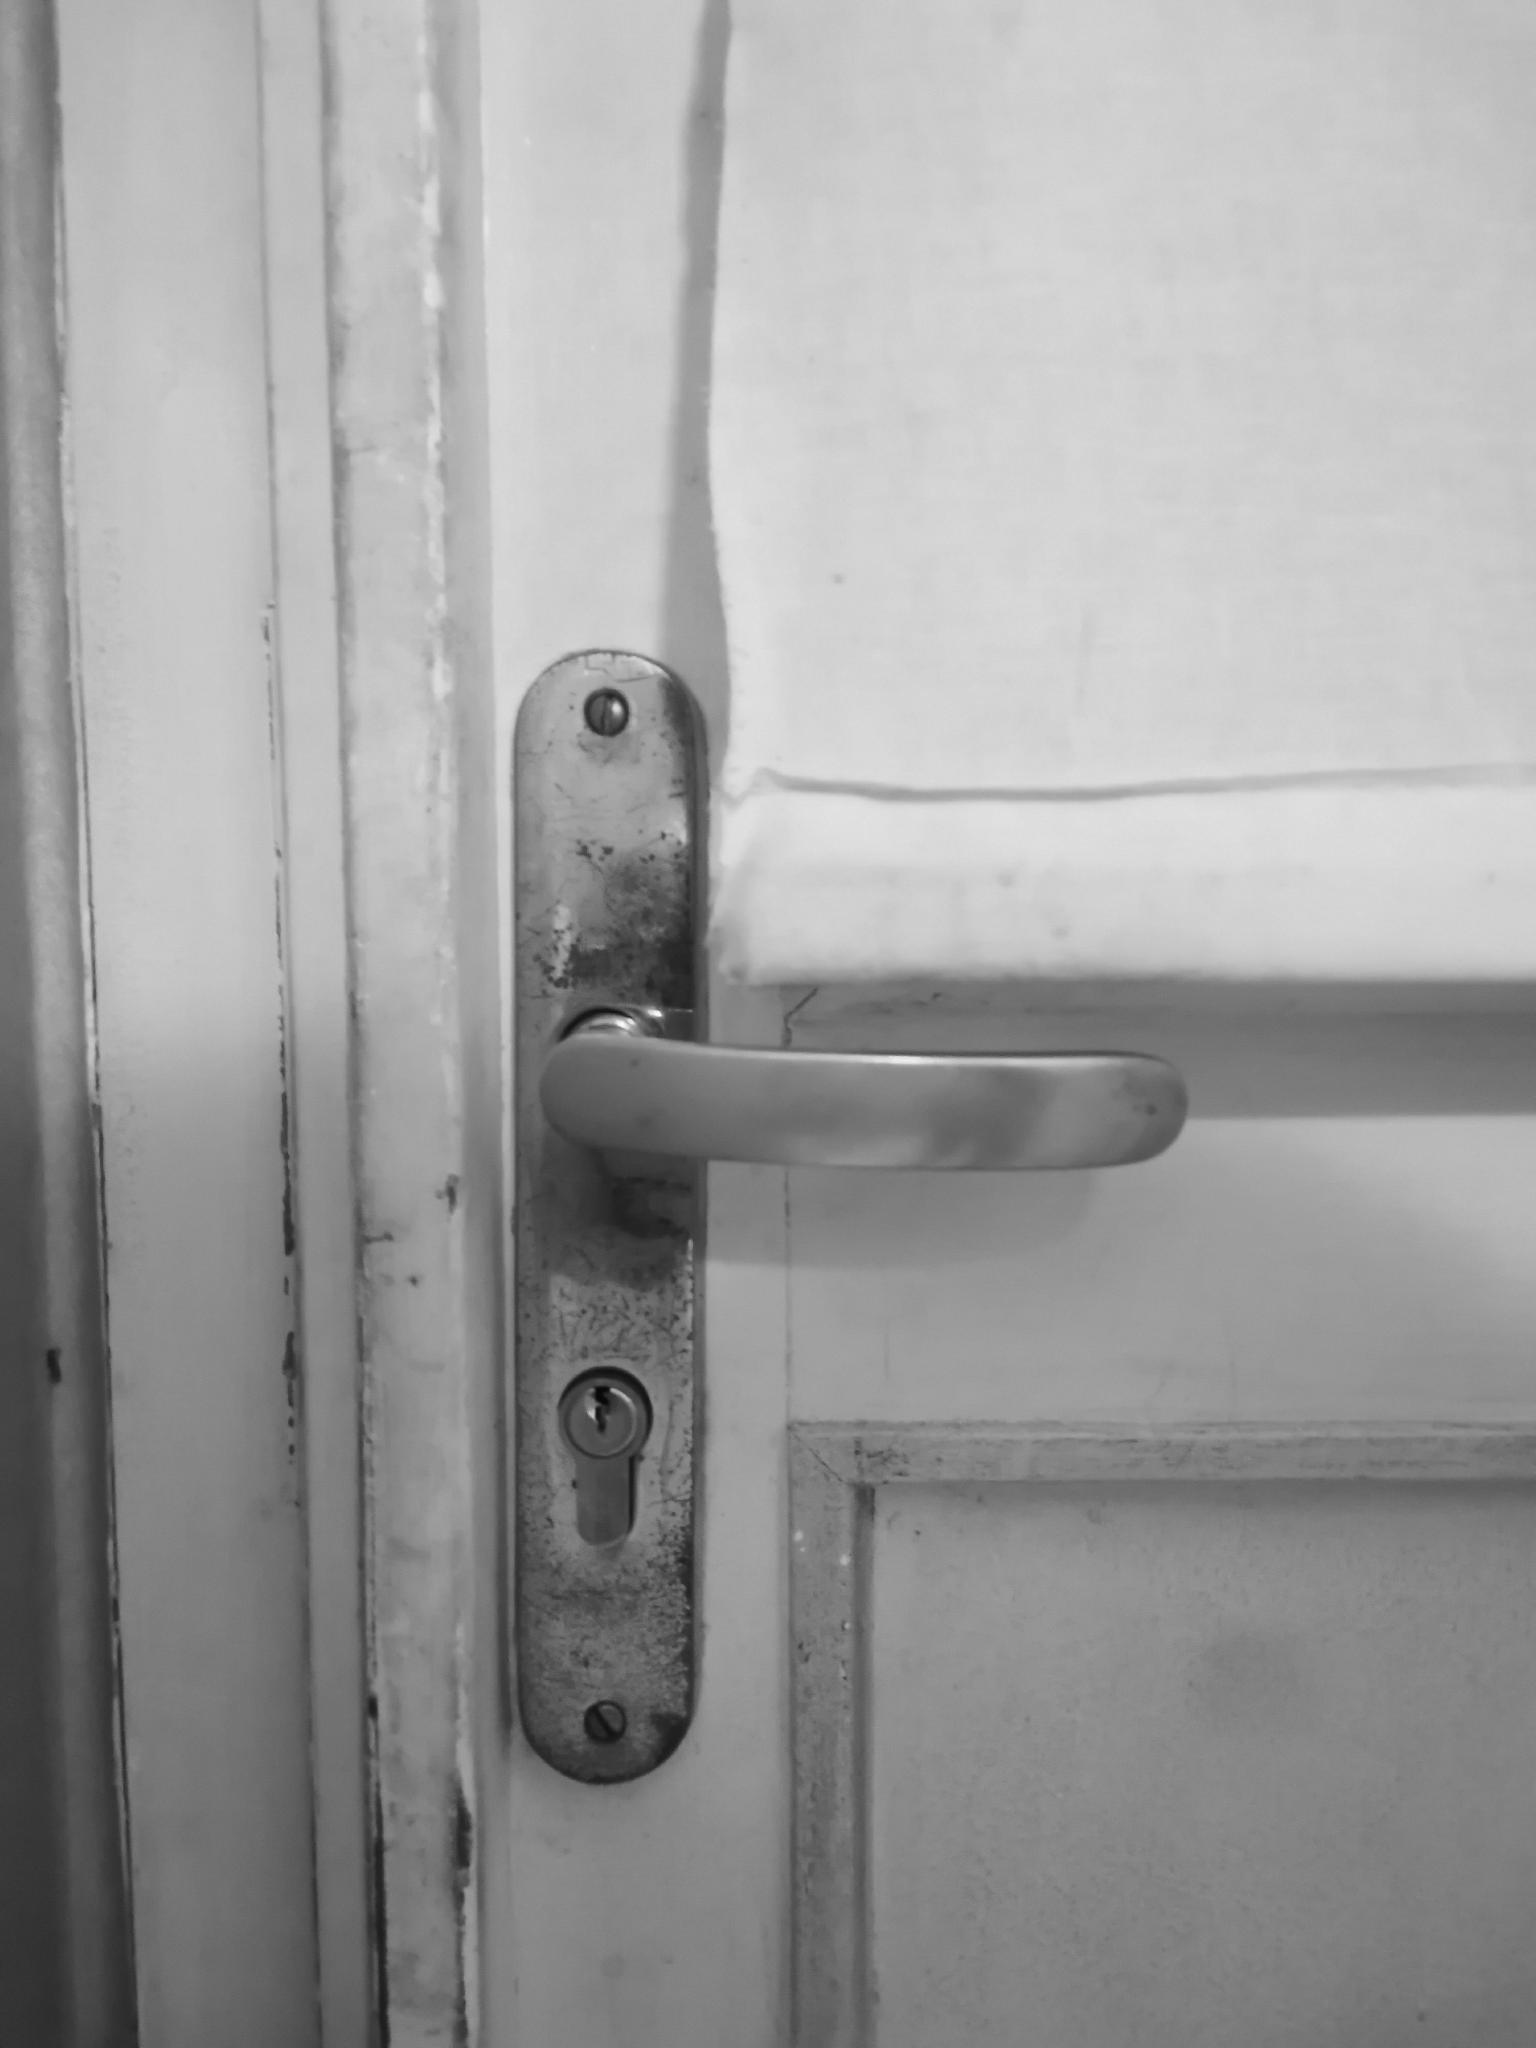screw: (582, 689, 629, 735), (581, 1701, 626, 1745)
